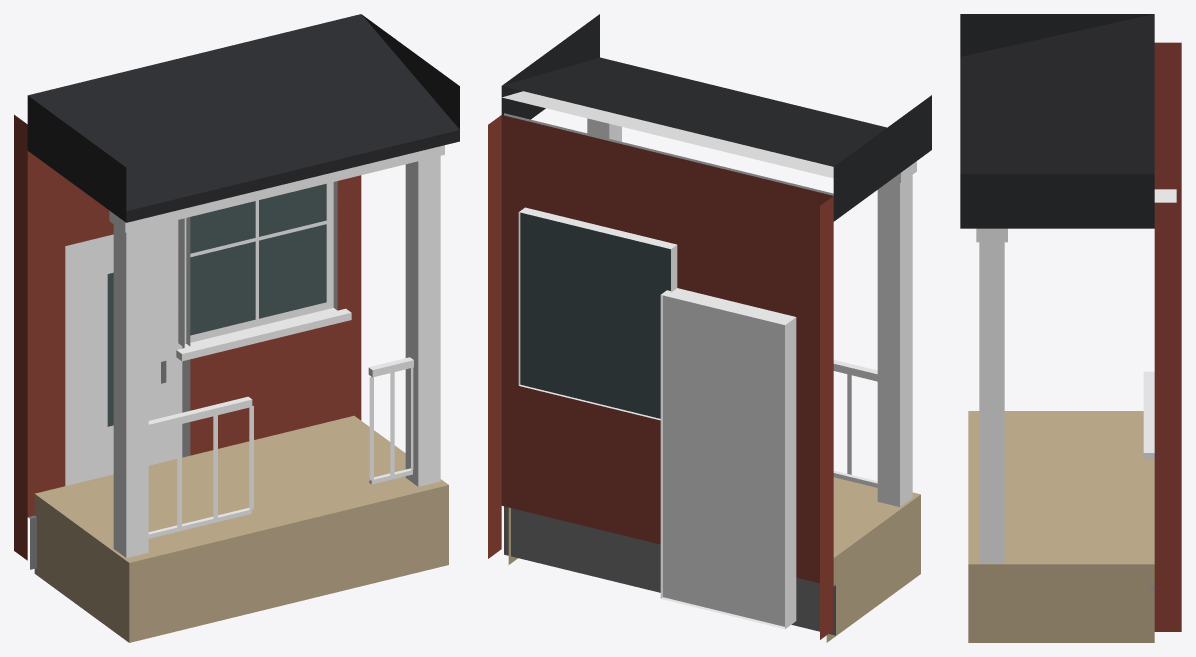
The model's file is base-stair3.fbx.
3 views of the same model, side by side, from view 1: azimuth 30°, elevation 25°; view 2: azimuth 150°, elevation 25°; view 3: azimuth 270°, elevation 25° (orthographic).
Parts seen in each view (by area): view 1: a2015/600/base-stair; view 2: a2015/600/base-stair; view 3: a2015/600/base-stair.
Boxes of the visible parts, x1,y1,x2,y2 form: a2015/600/base-stair: (14,14,459,642); a2015/600/base-stair: (488,14,931,642); a2015/600/base-stair: (960,14,1181,642).
Bounding box in the file's own units: 2.4 × 3.3 × 1.4.
